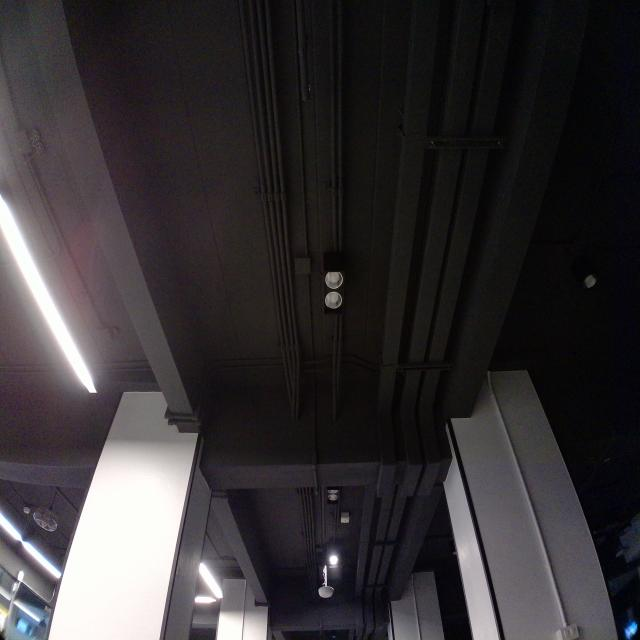lamp1_off: (318, 247, 352, 324)
